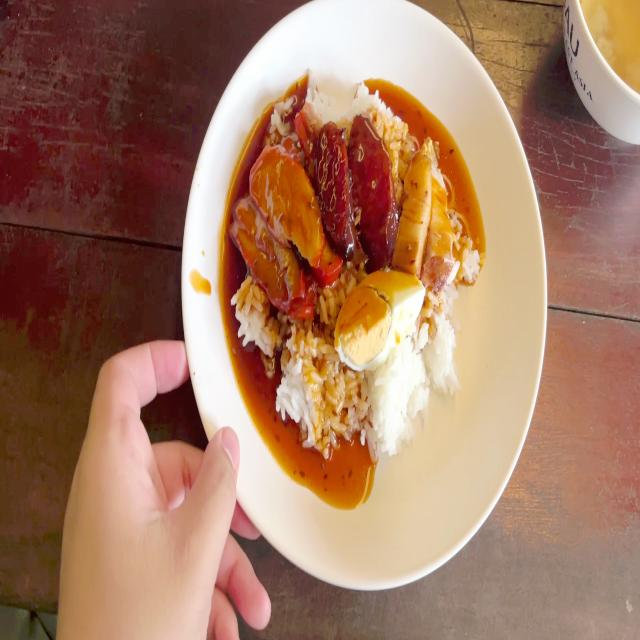boiled_egg: (332, 268, 422, 373)
chainese_sausage: (315, 121, 397, 264), (353, 114, 394, 265), (315, 122, 355, 250)
crispy_pork: (402, 138, 454, 284), (397, 147, 434, 274), (428, 146, 453, 281)
red_pork: (238, 147, 324, 308), (259, 146, 323, 258), (238, 207, 301, 309)
red_pork_and_crispy_pork: (231, 76, 472, 456)
rice: (340, 366, 433, 448), (276, 327, 341, 437)
